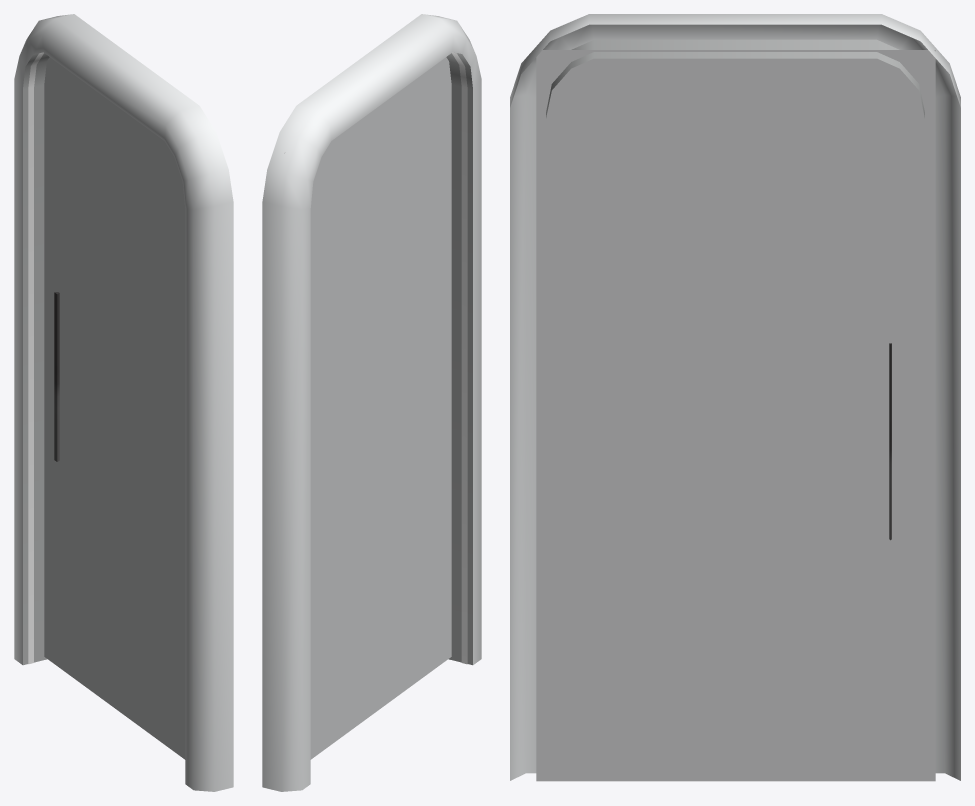
The model's file is M_BRketingmen02.FBX.
The picture shows the model from 3 angles, left to right: view 1: azimuth 30°, elevation 25°; view 2: azimuth 150°, elevation 25°; view 3: azimuth 270°, elevation 25°; orthographic projection. The views are drawn at different scales.
Parts seen in each view (by area): view 1: M_BRketingmen02_01, M_BRketingmen02_02; view 2: M_BRketingmen02_01, M_BRketingmen02_02; view 3: M_BRketingmen02_01.
Part boxes in pixels (bbox=[...]): M_BRketingmen02_01: bbox=[14, 14, 233, 791]; M_BRketingmen02_02: bbox=[28, 52, 43, 664]; M_BRketingmen02_01: bbox=[262, 14, 481, 791]; M_BRketingmen02_02: bbox=[452, 52, 467, 664]; M_BRketingmen02_01: bbox=[510, 14, 960, 781].
Size of the model in its own units: 0.1692 by 3.22 by 1.71.
